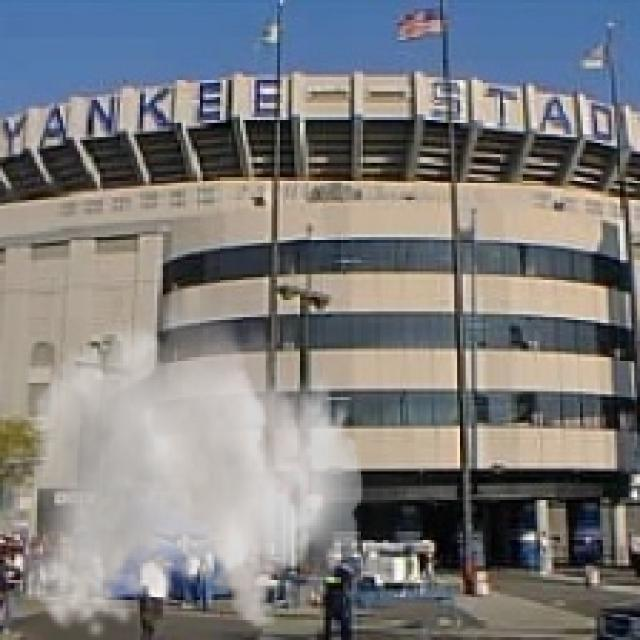Smoke: (17, 277, 366, 637)
